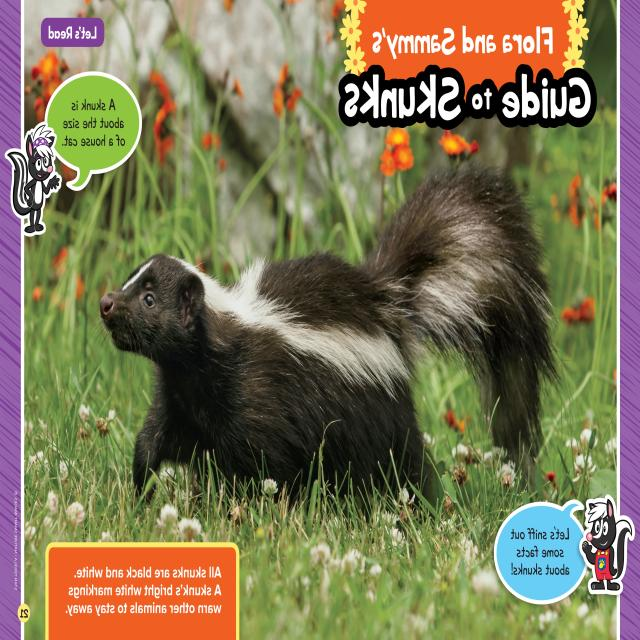Skunk: (95, 163, 553, 510)
